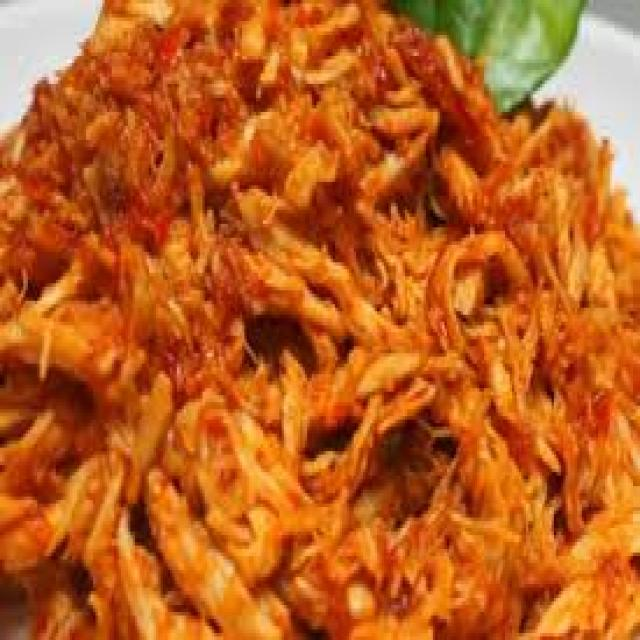ayam_suwir: (2, 0, 638, 635)
